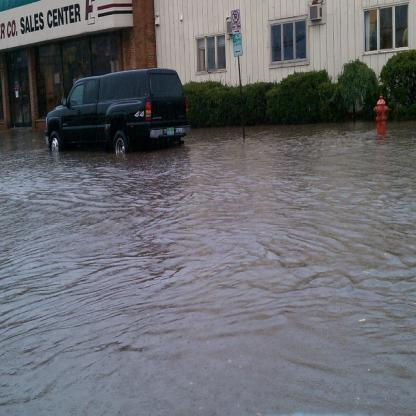Car: (46, 68, 190, 155)
